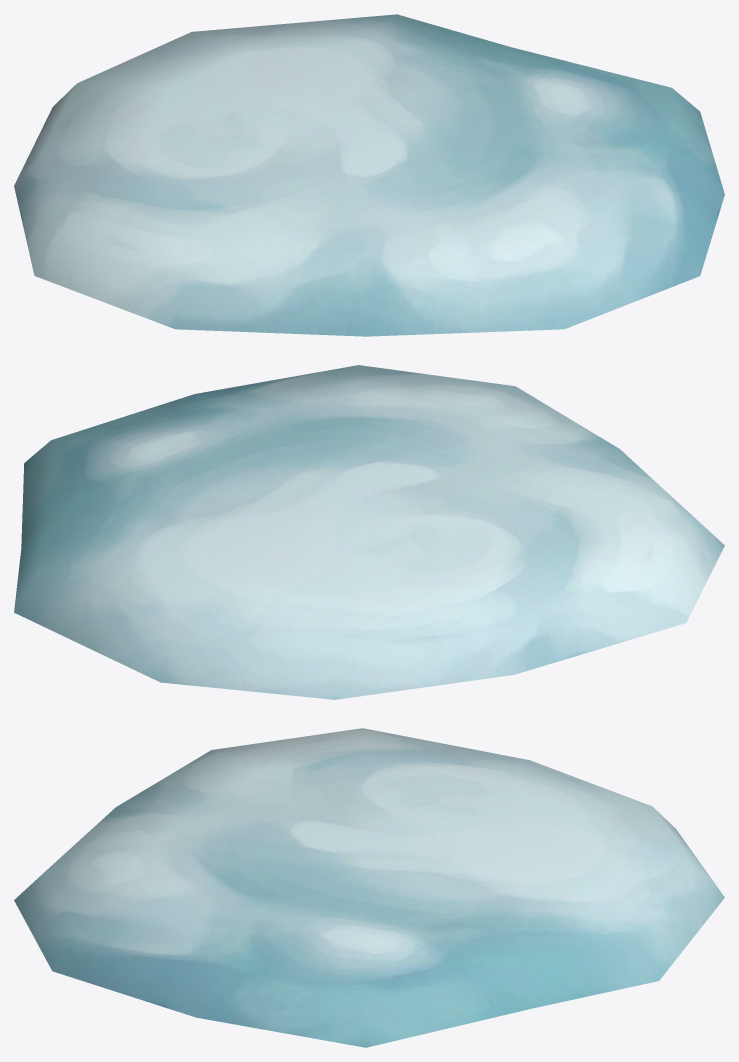
The model's file is Snow03.glb.
3 renders of one model, top to bottom at view 1: azimuth 30°, elevation 25°; view 2: azimuth 150°, elevation 25°; view 3: azimuth 270°, elevation 25°, orthographic. The views are drawn at different scales.
Parts seen in each view (by area): view 1: Snow03; view 2: Snow03; view 3: Snow03.
Part boxes in pixels (box(x1,y1,x2,y2)): Snow03: box(14, 14, 724, 336); Snow03: box(14, 365, 724, 699); Snow03: box(14, 728, 724, 1047).
Size of the model in its own units: 2.43 by 0.2064 by 2.41.
Materials: 1 (1 with a texture image).
